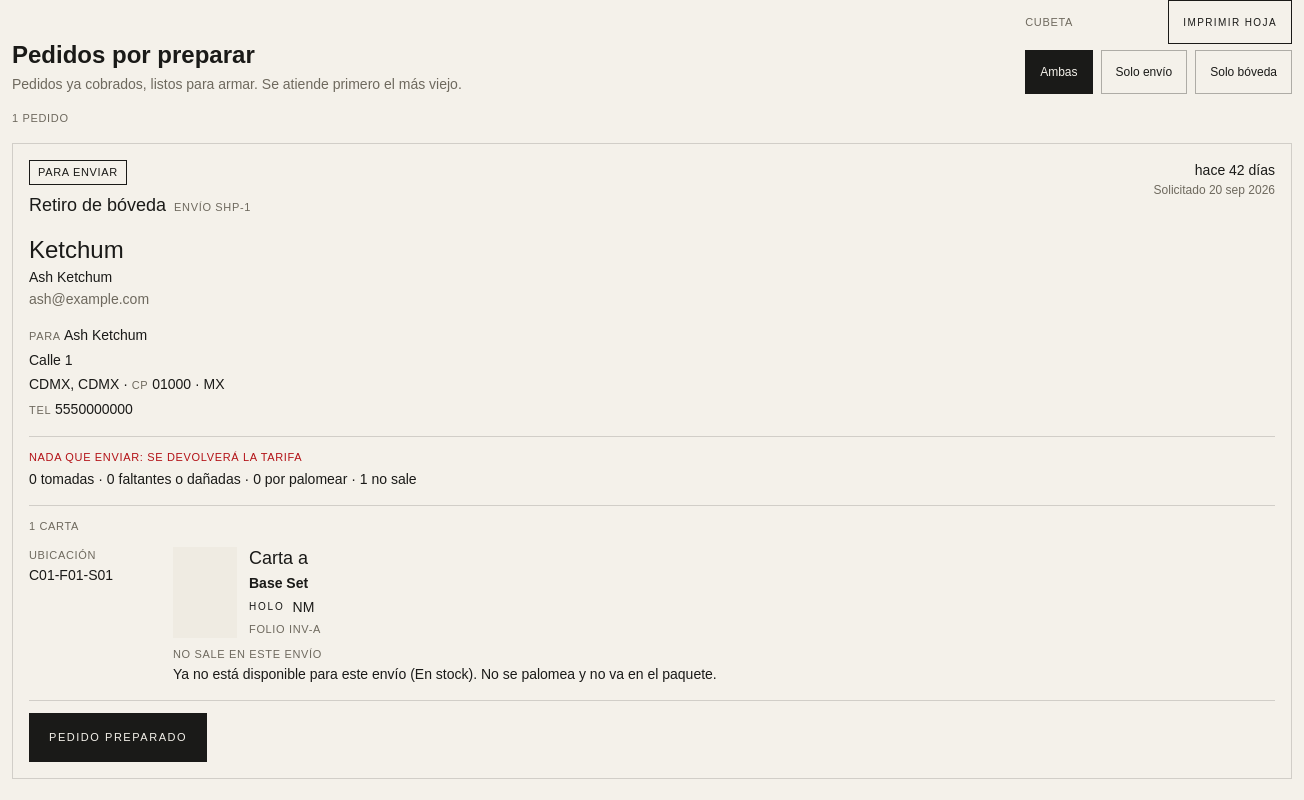
Test case: preparado · guía y deshacer (§37.4–§37.5) › retiro con TODAS las líneas bloqueadas por el reclamo (v1.80.6): «Nada que enviar» y el cierre por preparado
The width and height of the screenshot is (1304, 800).
Expected: the element with test id "prep-order-shp-1" shows "Nada que enviar: se devolverá la tarifa", top-left (29, 450), bottom-right (302, 462)
Click the button "Pedido preparado" at (118, 737), box top-left (29, 713), bottom-right (207, 762)
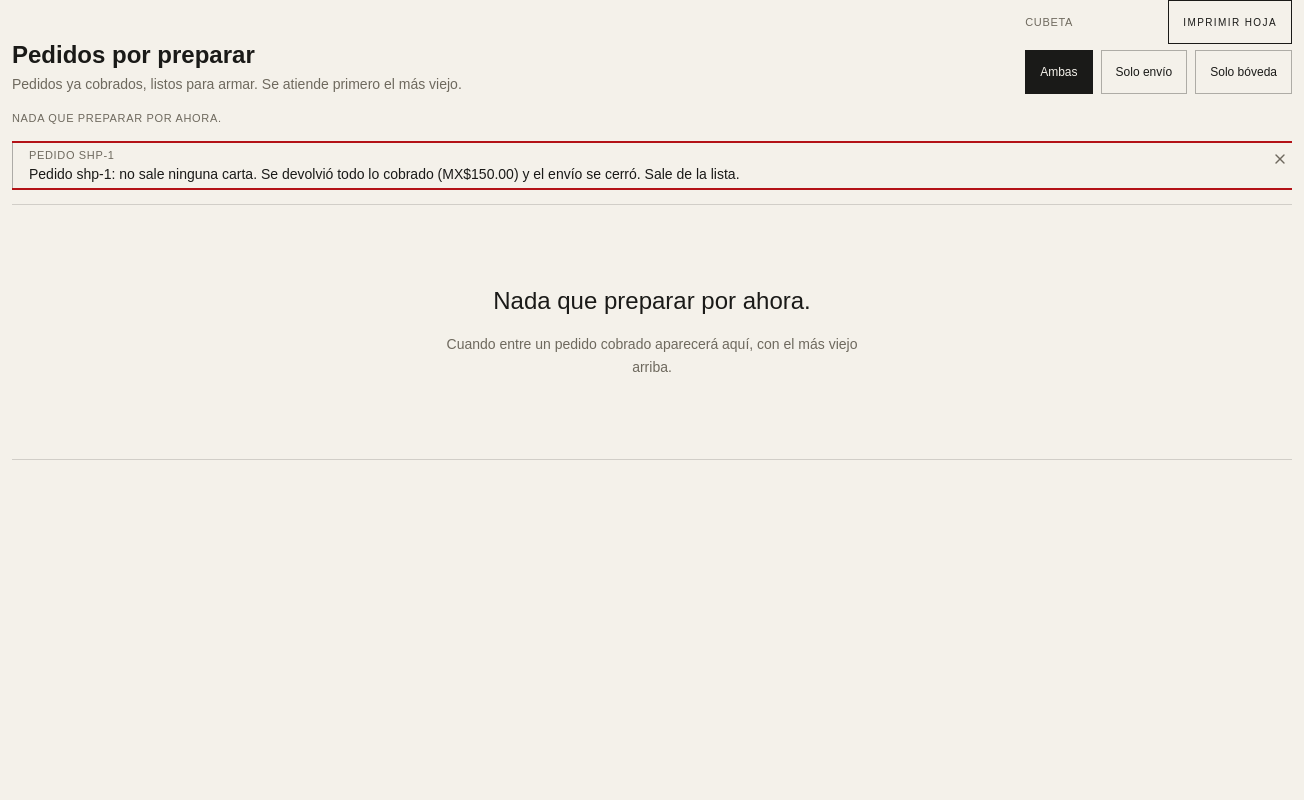
Expected: the element with test id "prep-order-shp-1" is gone
